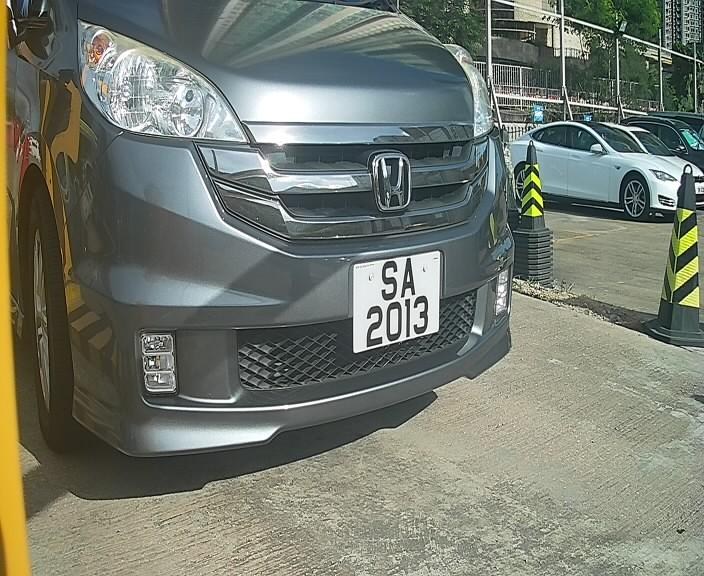Car: (13, 1, 544, 507)
License Plate: (343, 240, 447, 366)
